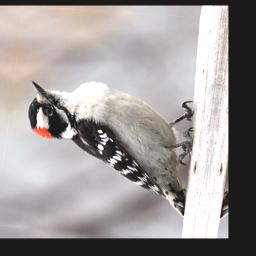Woodpecker: (16, 76, 203, 215)
